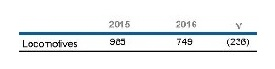table: (0, 0, 275, 69)
